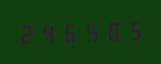five: (81, 19, 101, 43), (123, 18, 143, 41)
four: (38, 21, 58, 44)
six: (60, 20, 80, 44)
two: (17, 22, 37, 45)
zero: (102, 19, 122, 42)
